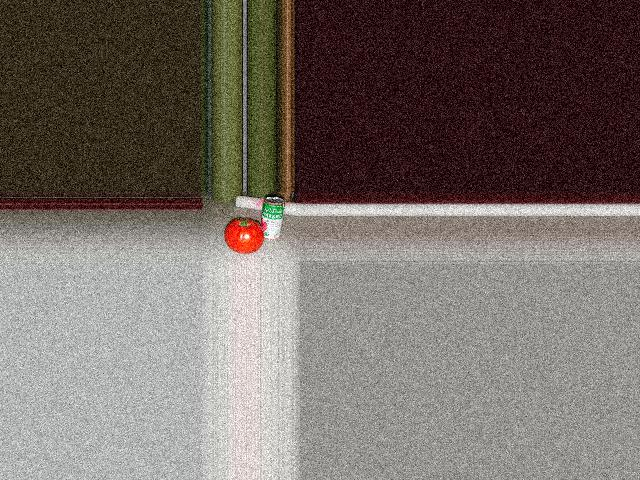tomato: (224, 219, 263, 253)
